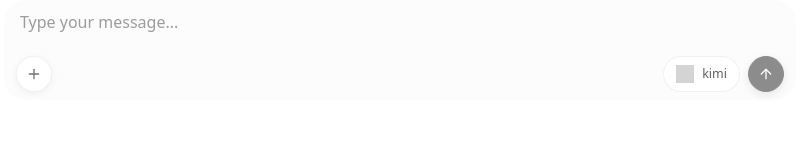
ThreadComposer › keeps long-press drag switching alongside the click picker
The width and height of the screenshot is (803, 160).
Step 1. Press the mouse on the button "kimi" → (702, 74), box top-left (663, 56), bottom-right (740, 92)
Wait 400 ms
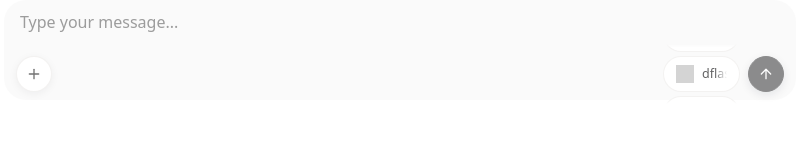
Check: the element with test id "composer-model-pill-viewport" is shown, box top-left (655, 44), bottom-right (740, 104)
